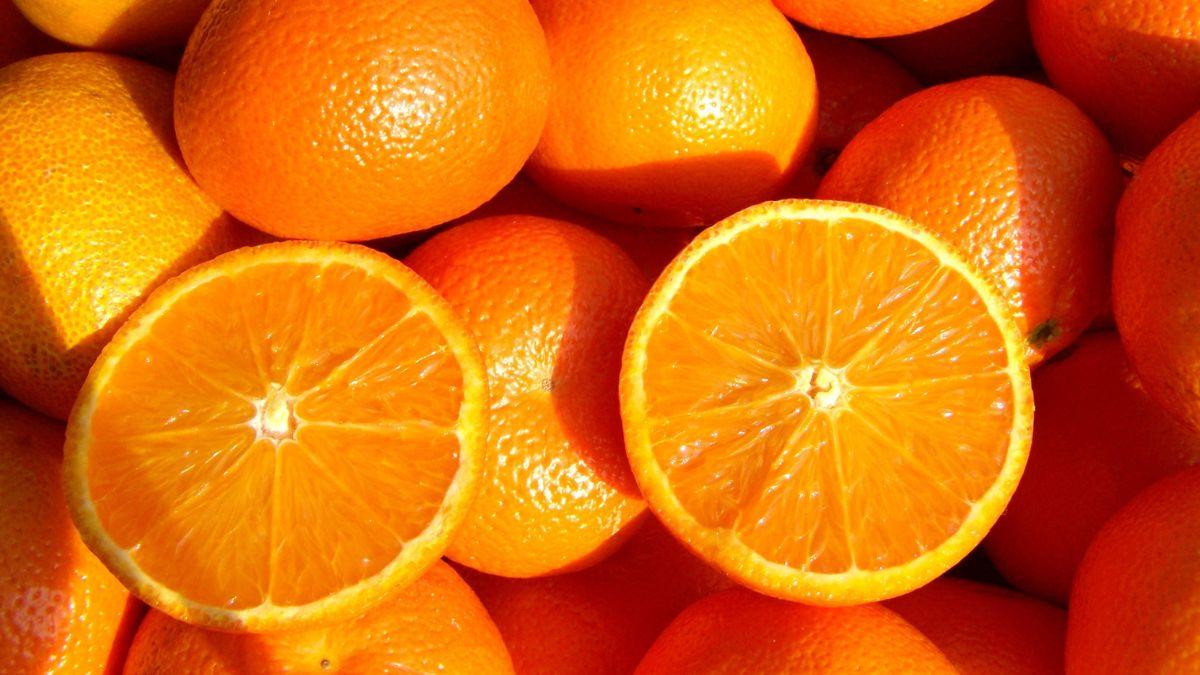Orange: (48, 253, 503, 641)
